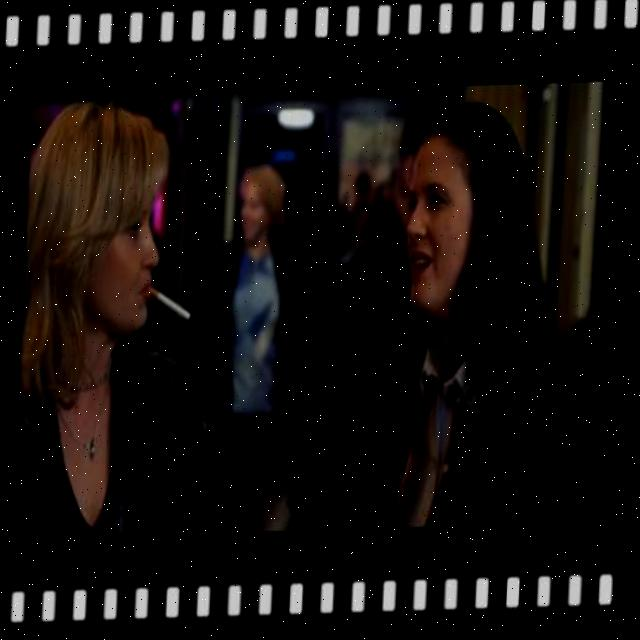cigarette: (150, 287, 195, 323)
